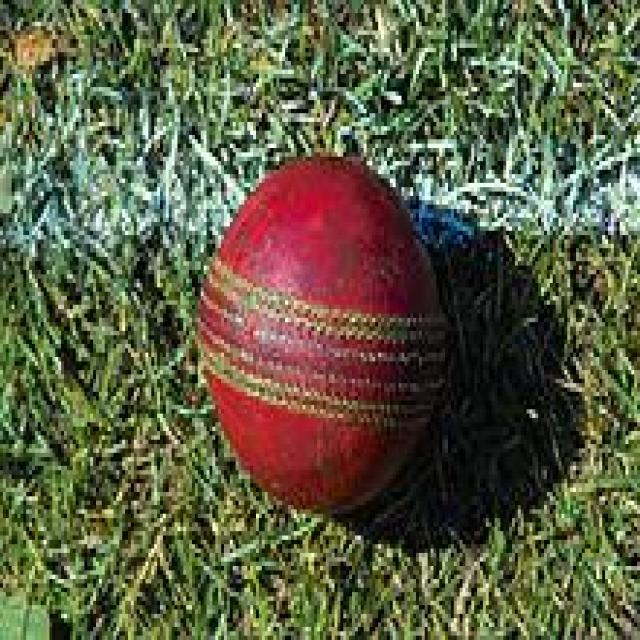ball: (195, 157, 445, 505)
